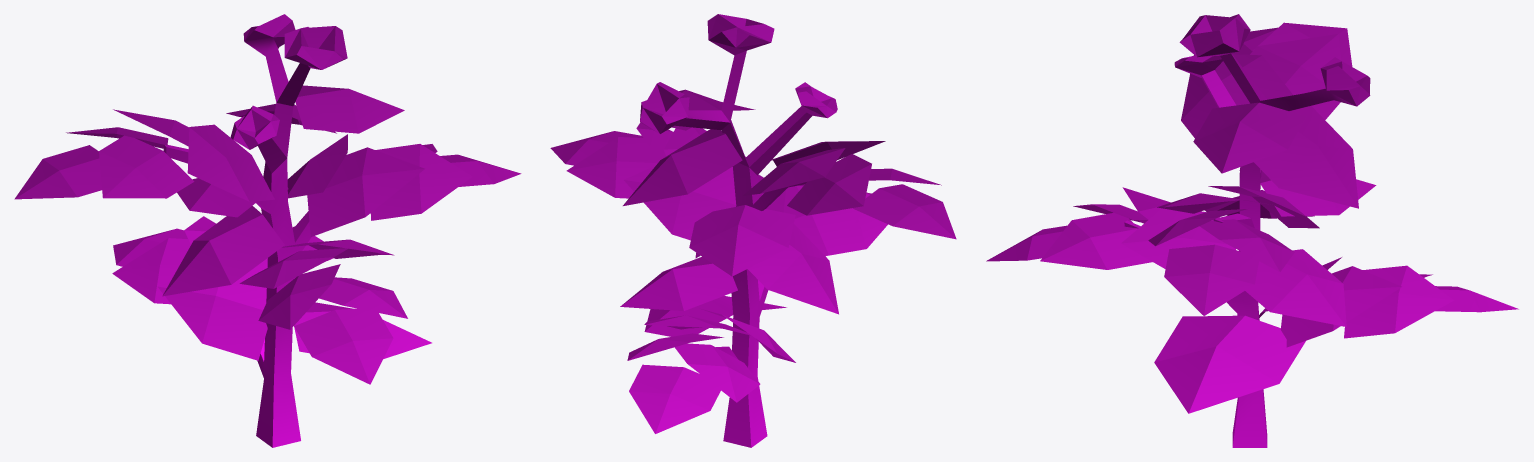
File: SM_Prop_Plant_Potato_01_L.fbx
The picture shows the model from 3 angles, left to right: view 1: azimuth 30°, elevation 25°; view 2: azimuth 150°, elevation 25°; view 3: azimuth 270°, elevation 25°; orthographic projection. The views are drawn at different scales.
Parts seen in each view (by area): view 1: SM_Prop_Plant_Potato_01_L; view 2: SM_Prop_Plant_Potato_01_L; view 3: SM_Prop_Plant_Potato_01_L.
Boxes of the visible parts, bbox=[...] form: SM_Prop_Plant_Potato_01_L: bbox=[14, 14, 521, 447]; SM_Prop_Plant_Potato_01_L: bbox=[550, 14, 956, 447]; SM_Prop_Plant_Potato_01_L: bbox=[986, 14, 1518, 447].
Bounding box in the file's own units: 118 × 101 × 113.
